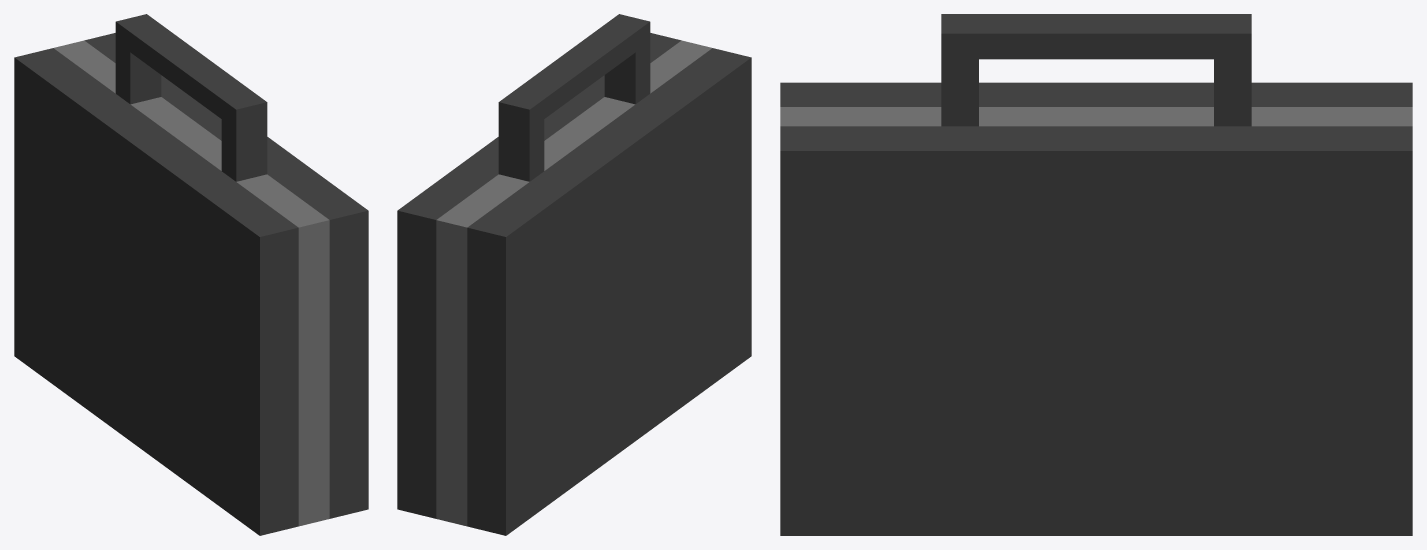
Rendered from Brief_case.fbx.
3 views of the same model, side by side, from view 1: azimuth 30°, elevation 25°; view 2: azimuth 150°, elevation 25°; view 3: azimuth 270°, elevation 25° (orthographic). The views are drawn at different scales.
Visible parts, largest first — view 1: Briefcase; view 2: Briefcase; view 3: Briefcase.
Part boxes in pixels (<box>): Briefcase: <box>14,14,368,535</box>; Briefcase: <box>397,14,751,535</box>; Briefcase: <box>780,14,1412,535</box>.
Size of the model in its own units: 16.21 by 52.89 by 63.41.
